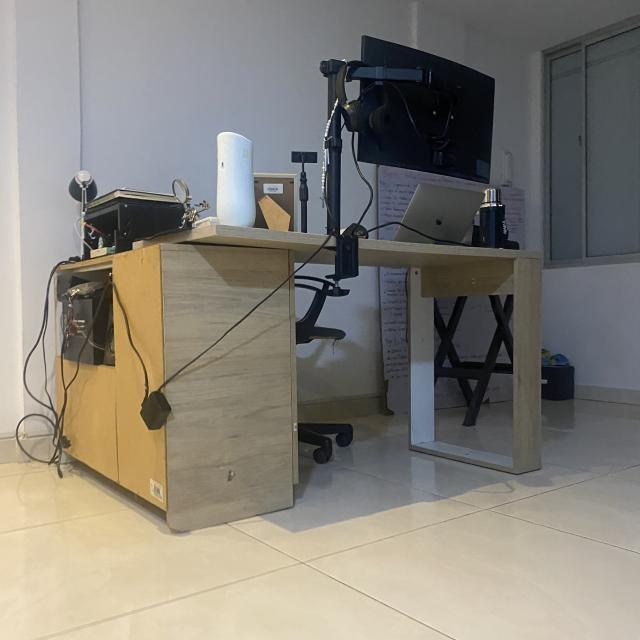obstacle: (19, 31, 549, 540)
